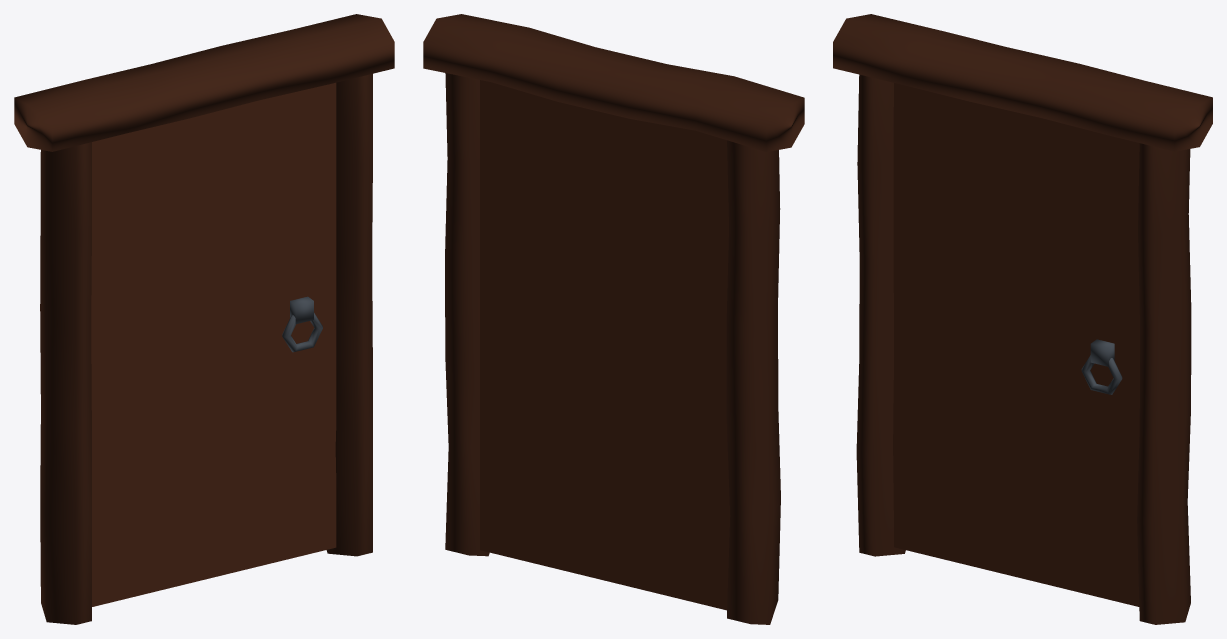
Rendered from door.glb.
The picture shows the model from 3 angles, left to right: view 1: azimuth 30°, elevation 25°; view 2: azimuth 150°, elevation 25°; view 3: azimuth 330°, elevation 25°; orthographic projection.
Parts seen in each view (by area): view 1: Cube, Cube.002, Cube.003, Cube.001, Torus, Cube.004; view 2: Cube, Cube.002, Cube.003, Cube.001; view 3: Cube, Cube.001, Cube.003, Cube.002, Torus, Cube.004.
Boxes of the visible parts, x1,y1,x2,y2 form: Cube: (91,82,336,606); Cube.002: (40,142,91,624); Cube.003: (14,14,394,151); Cube.001: (326,73,372,556); Torus: (282,313,322,352); Cube.004: (290,296,313,324); Cube: (480,80,730,610); Cube.002: (726,140,780,624); Cube.003: (423,14,804,152); Cube.001: (445,73,489,556); Cube: (893,83,1139,606); Cube.001: (1137,143,1191,624); Cube.003: (833,14,1212,151); Cube.002: (856,74,905,556); Torus: (1081,355,1122,394); Cube.004: (1090,339,1114,366).
Size of the model in its own units: 1.56 by 2.21 by 0.3121.
